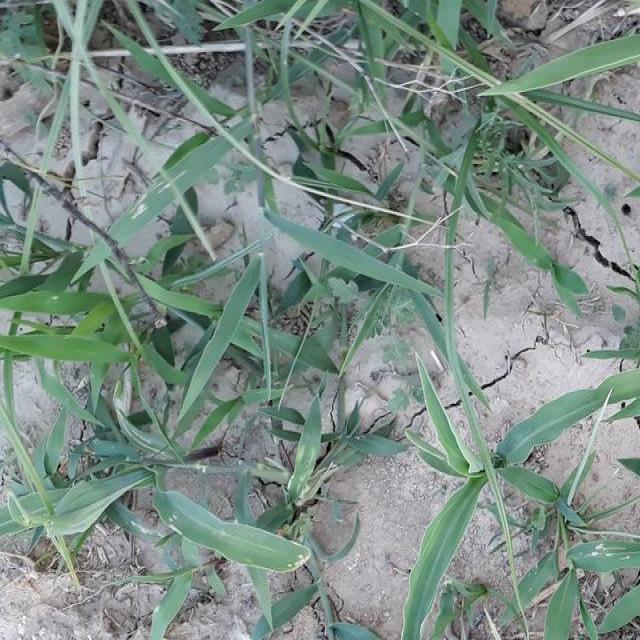weed: (0, 0, 337, 621), (399, 330, 640, 640)
